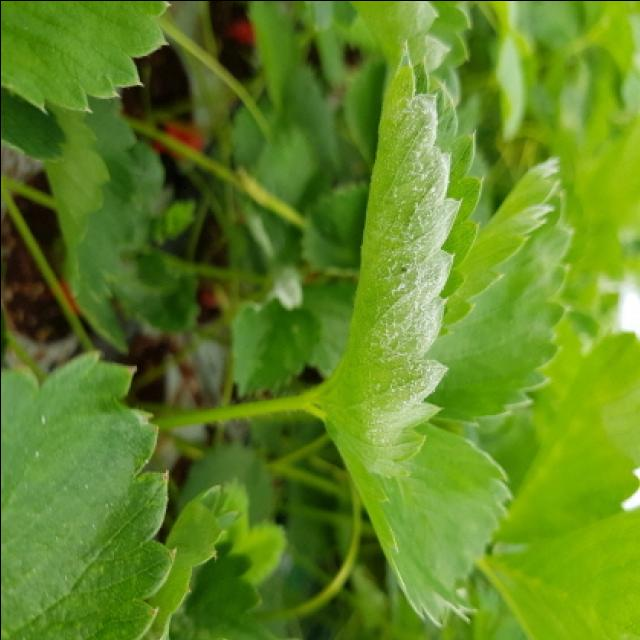Powdery Mildew Leaf: (311, 37, 484, 479)
